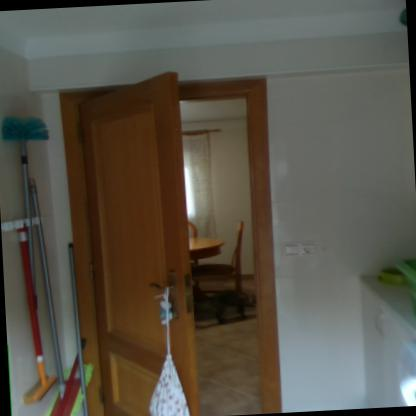semi: (53, 63, 288, 415)
